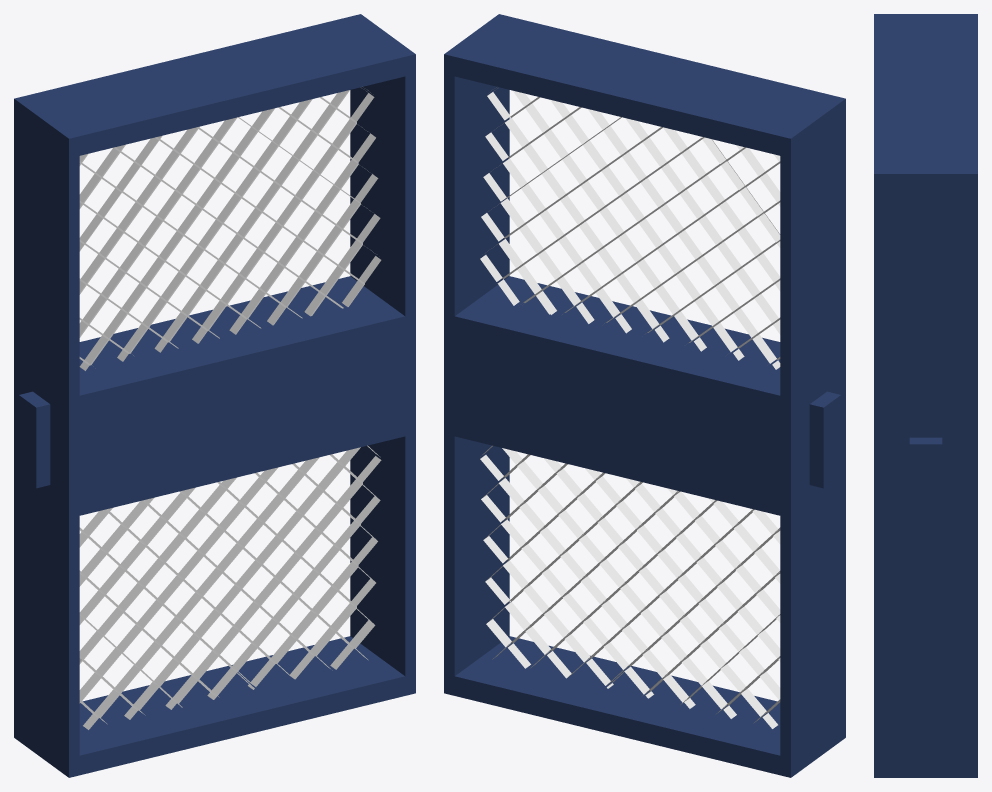
Rendered from BlockDoor.fbx.
3 views of the same model, side by side, from view 1: azimuth 30°, elevation 25°; view 2: azimuth 150°, elevation 25°; view 3: azimuth 270°, elevation 25° (orthographic). The views are drawn at different scales.
Visible parts, largest first — view 1: Cube.013; view 2: Cube.013; view 3: Cube.013.
Boxes of the visible parts, x1,y1,x2,y2 form: Cube.013: (14, 14, 415, 777); Cube.013: (444, 14, 845, 777); Cube.013: (874, 14, 977, 777).
Size of the model in its own units: 270 by 440 by 68.59.
